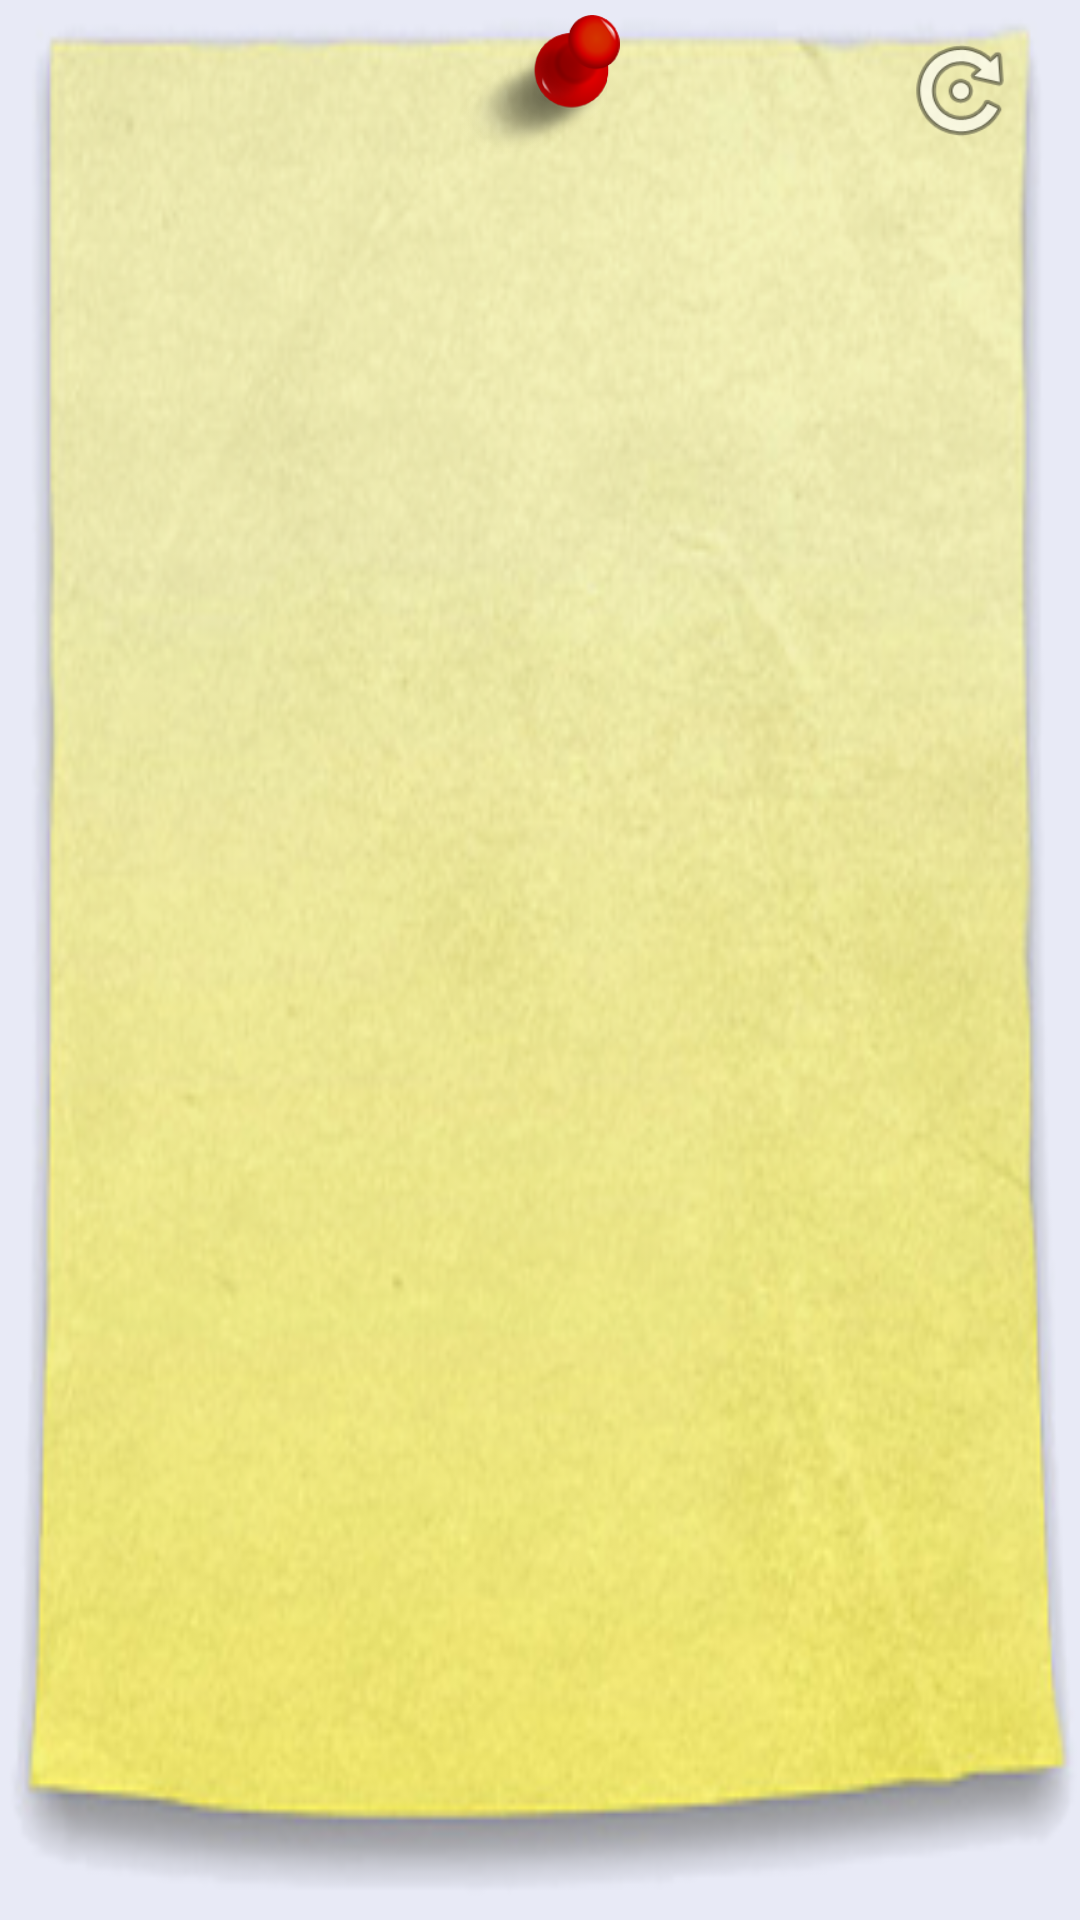

Icons on this 1080 x 1920 Android screen, each with the point to tap as (x,y):
chincheta: (540,90)
rotate: (960,90)
